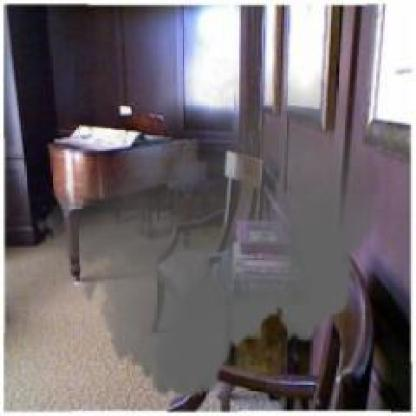Smoke: (35, 59, 381, 411)
